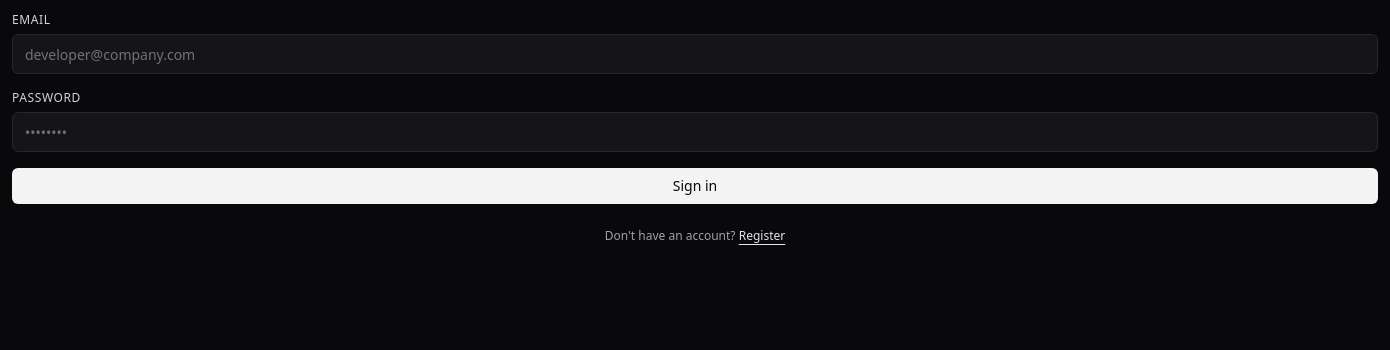
Auth UI Flow › LoginForm › displays 401 invalid credentials error properly
Type "dev@test.com" into the field labelled "Email" at (695, 54), box [12,34,1378,74]
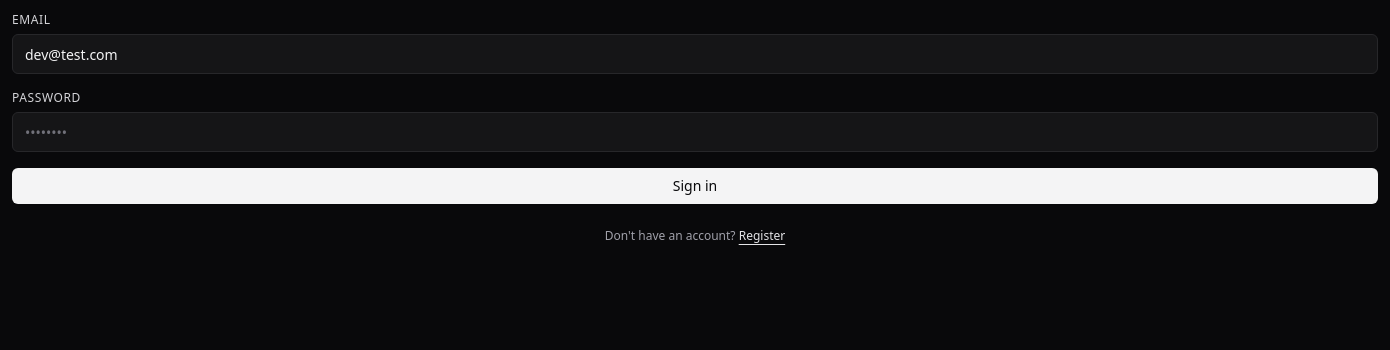
Type "wrongpass" into the password field labelled "Password" at (695, 132), box [12,112,1378,152]
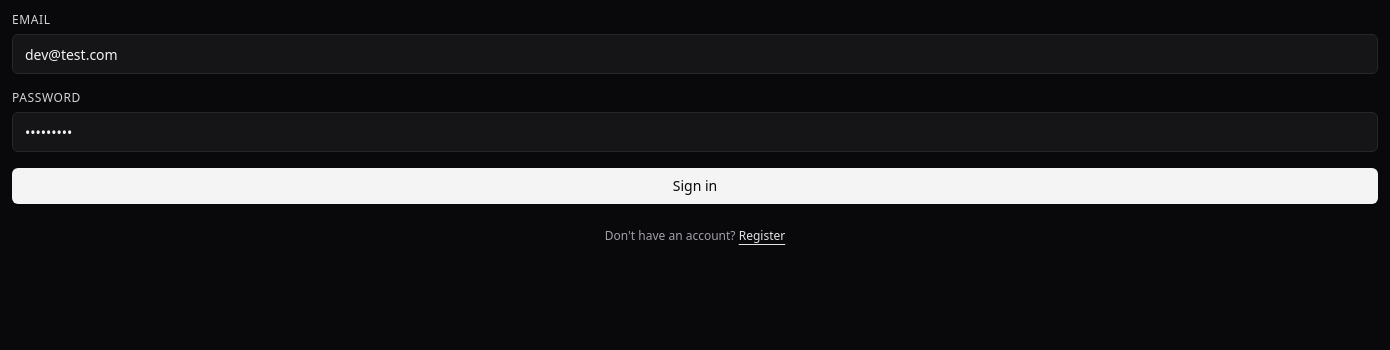
Click the button "Sign in" at (695, 186), box [12,168,1378,204]
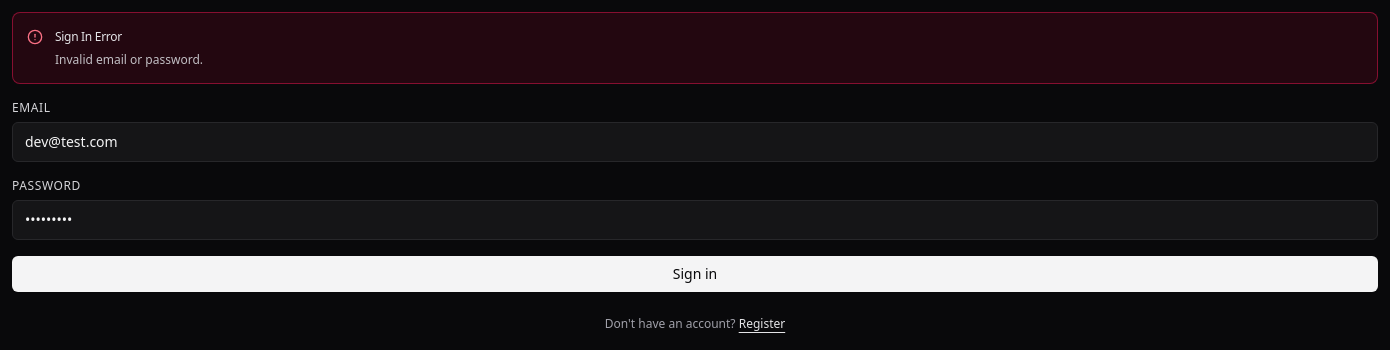
Now the text "Invalid email or password." is shown, box [55,50,203,68]
